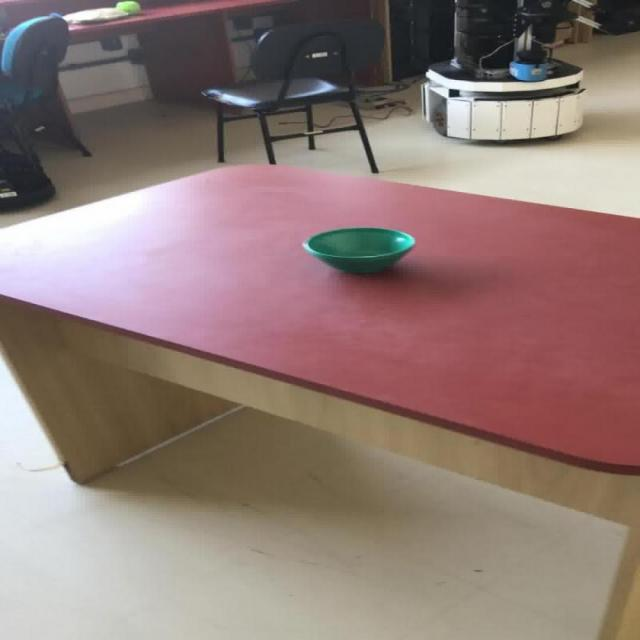Bowl: (301, 226, 415, 273)
